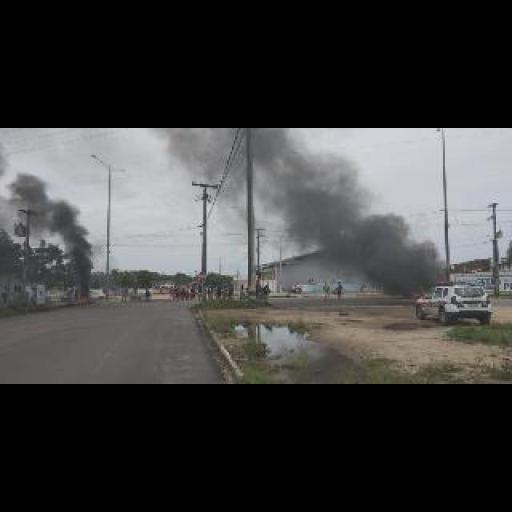smoke: (294, 155, 450, 288), (160, 128, 298, 232), (78, 296, 85, 302), (421, 291, 427, 296)
